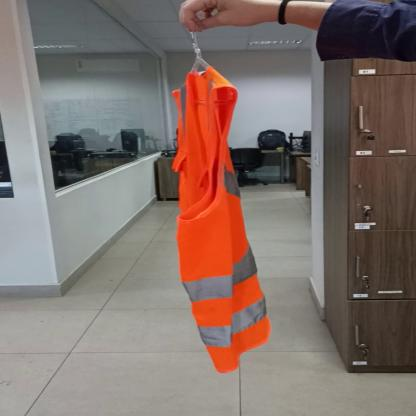colete: (150, 65, 282, 379)
